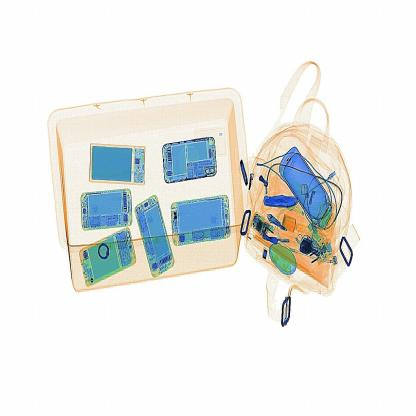knife: (264, 191, 300, 211)
